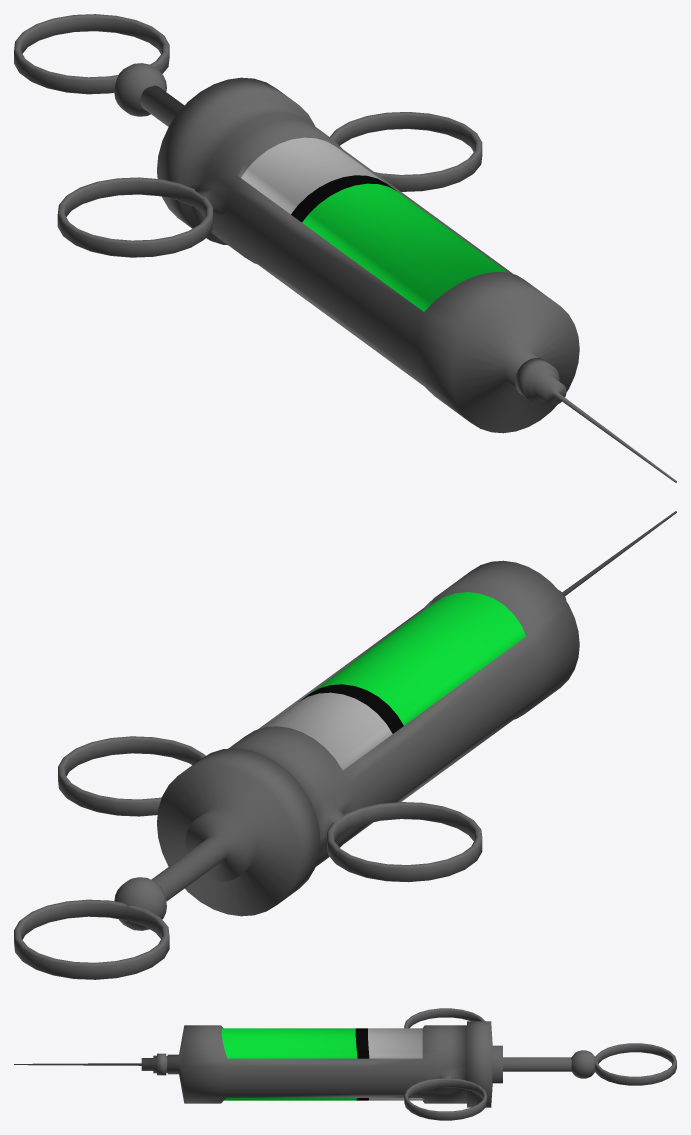
File: Syringe.fbx
The picture shows the model from 3 angles, top to bottom: view 1: azimuth 30°, elevation 25°; view 2: azimuth 150°, elevation 25°; view 3: azimuth 270°, elevation 25°; orthographic projection. The views are drawn at different scales.
Visible parts, largest first — view 1: Cylinder; view 2: Cylinder; view 3: Cylinder.
Boxes of the visible parts, bbox=[...] form: Cylinder: bbox=[14, 14, 676, 482]; Cylinder: bbox=[14, 511, 676, 979]; Cylinder: bbox=[14, 1008, 676, 1120].
Size of the model in its own units: 632 by 221 by 1692.
